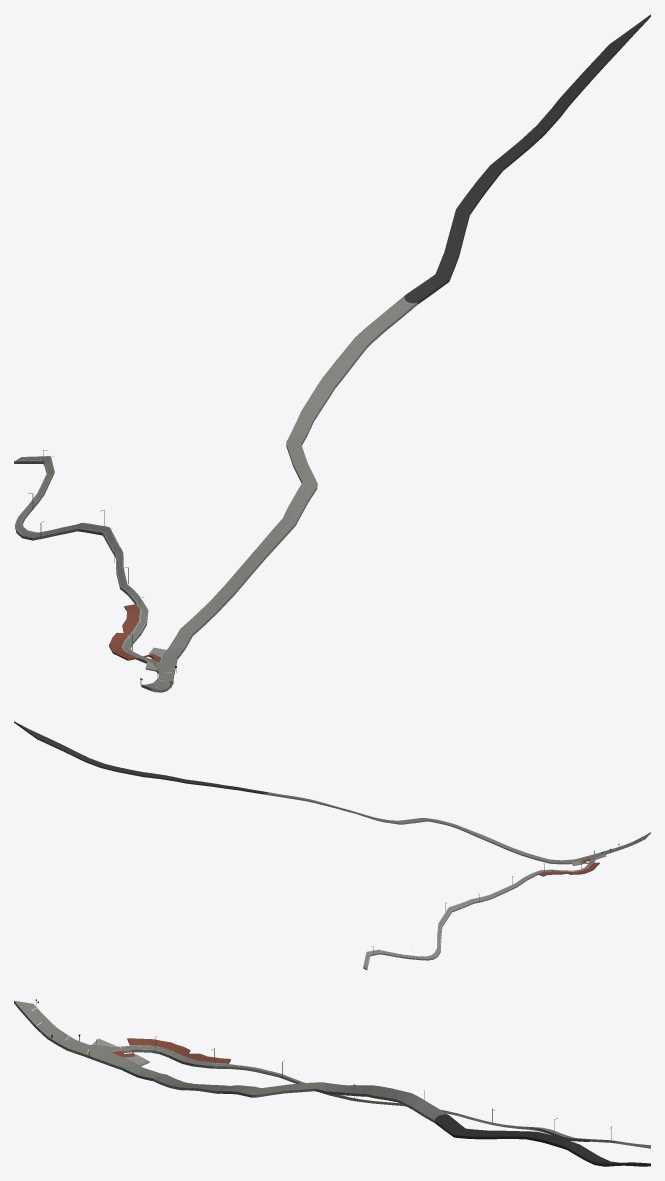
3 views of the same model, one above another, from view 1: azimuth 30°, elevation 25°; view 2: azimuth 150°, elevation 25°; view 3: azimuth 270°, elevation 25° (orthographic). The views are drawn at different scales.
Size of the model in its own units: 395 by 139 by 269.
